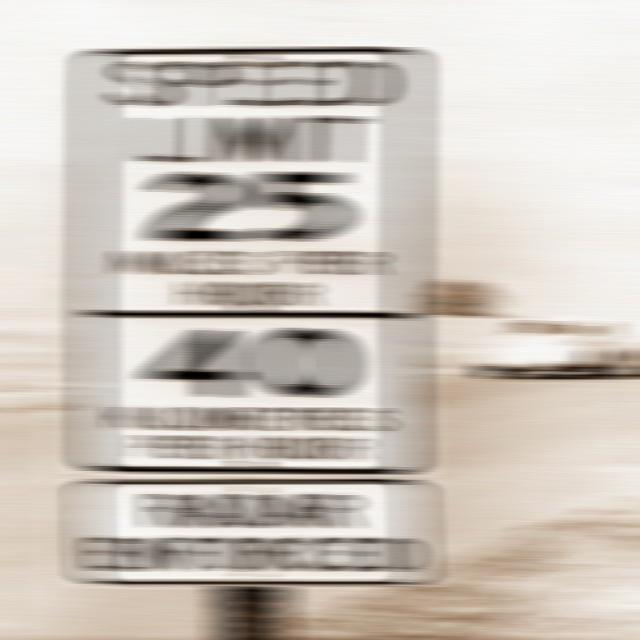speedLimit25: (86, 48, 418, 314)
